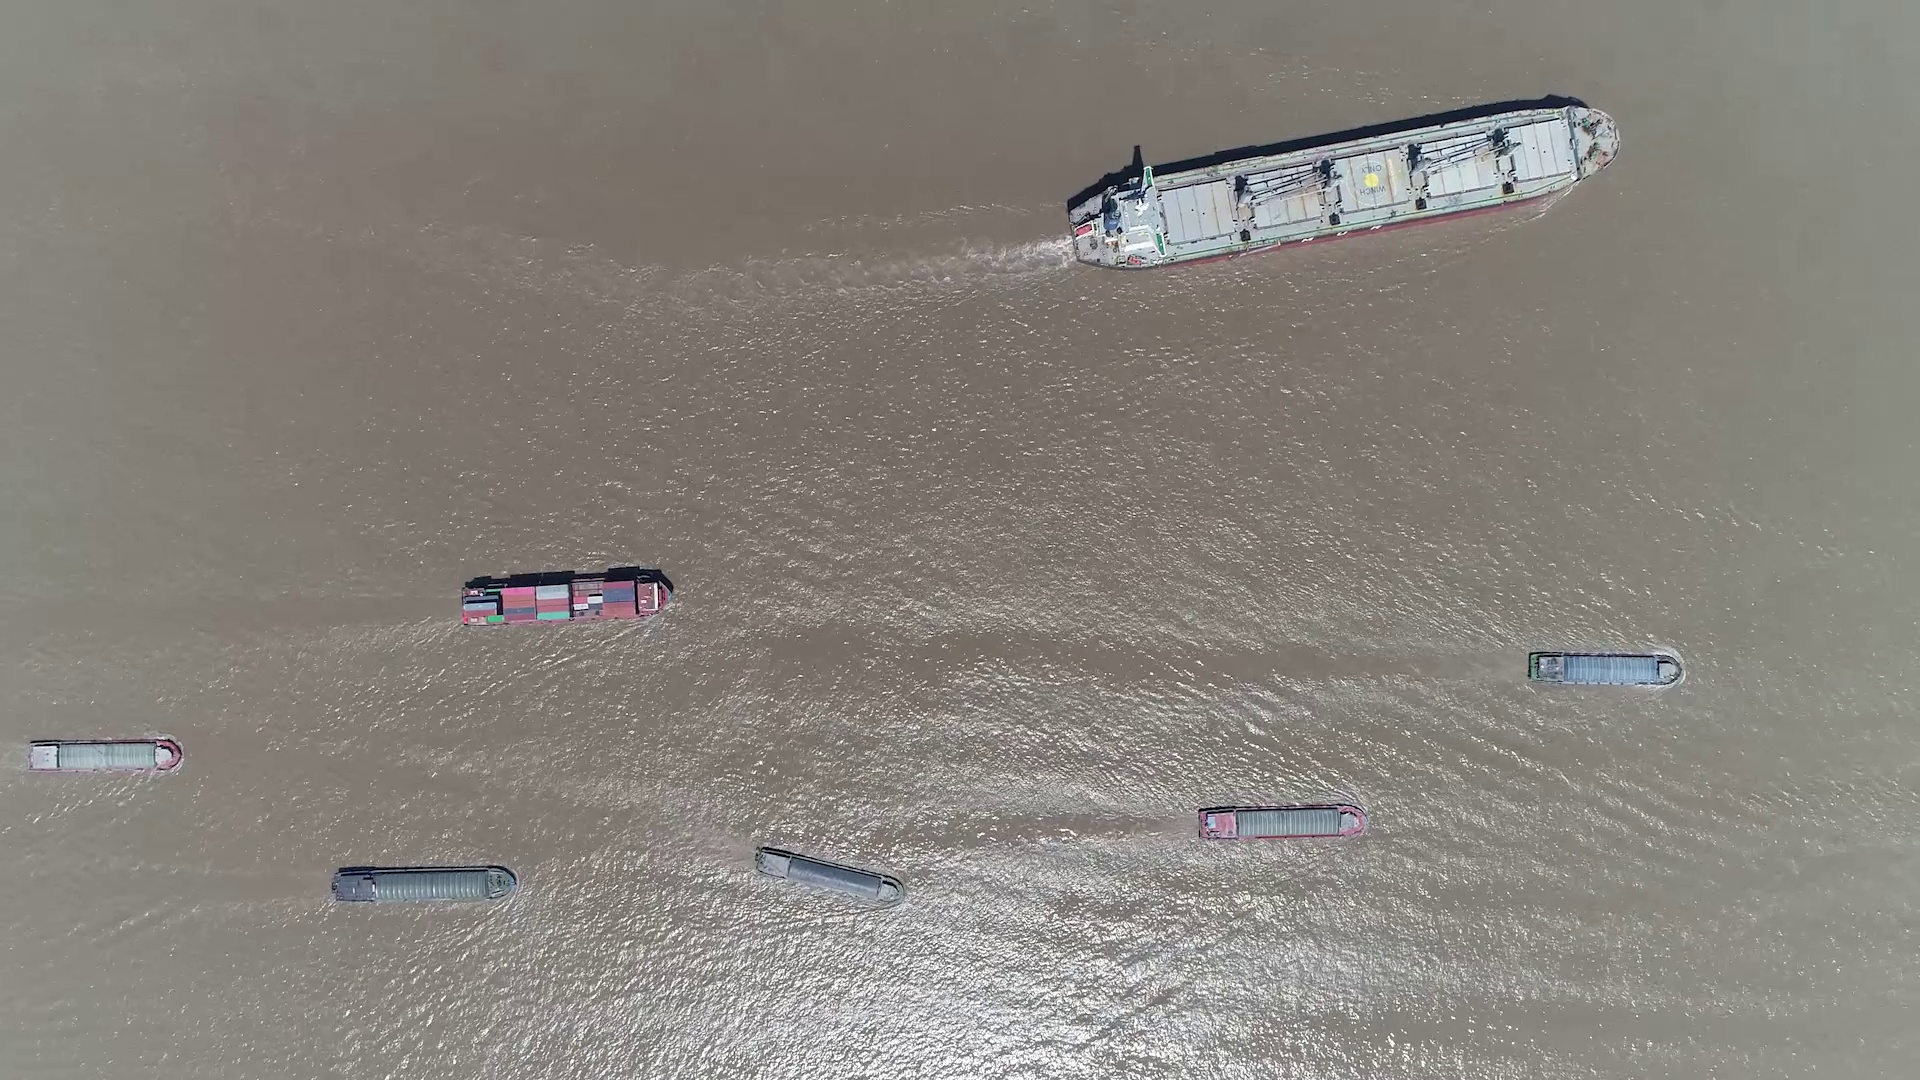ship: (1069, 108, 1618, 266), (460, 574, 673, 626), (754, 847, 903, 903), (334, 865, 518, 903), (1197, 803, 1367, 841), (1528, 649, 1683, 687), (25, 738, 182, 773)
